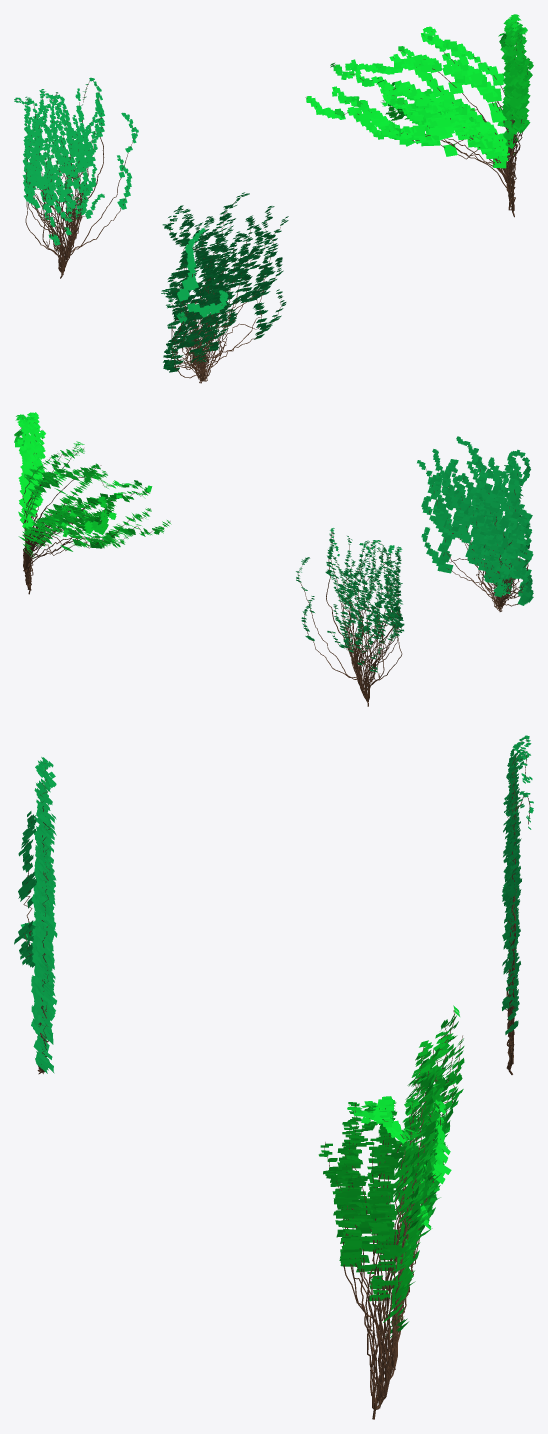
Rendered from Raum_IVY.fbx.
3 renders of one model, top to bottom at view 1: azimuth 30°, elevation 25°; view 2: azimuth 150°, elevation 25°; view 3: azimuth 270°, elevation 25°, orthographic. The views are drawn at different scales.
Visible parts, largest first — view 1: IvyLeaf.001, IvyLeaf.002, IvyLeaf, IVY_Curve, IVY_Curve.002, IVY_Curve.001; view 2: IvyLeaf.002, IvyLeaf.001, IvyLeaf, IVY_Curve, IVY_Curve.001, IVY_Curve.002; view 3: IvyLeaf.001, IvyLeaf.002, IVY_Curve.001, IvyLeaf, IVY_Curve.
Boxes of the visible parts, x1,y1,x2,y2 form: IvyLeaf.001: (306, 14, 533, 168); IvyLeaf.002: (161, 192, 288, 372); IvyLeaf: (14, 77, 138, 245); IVY_Curve: (16, 81, 136, 278); IVY_Curve.002: (167, 195, 284, 383); IVY_Curve.001: (305, 19, 529, 217); IvyLeaf.002: (417, 436, 533, 605); IvyLeaf.001: (14, 412, 171, 557); IvyLeaf: (296, 528, 404, 672); IVY_Curve: (297, 531, 402, 706); IVY_Curve.001: (17, 418, 170, 594); IVY_Curve.002: (425, 445, 528, 611); IvyLeaf.001: (318, 1005, 464, 1337); IvyLeaf.002: (14, 757, 57, 1073); IVY_Curve.001: (324, 1010, 462, 1419); IvyLeaf: (501, 735, 533, 1034); IVY_Curve: (505, 738, 530, 1074).
Bounding box in the file's own units: 1294 × 526 × 764.
